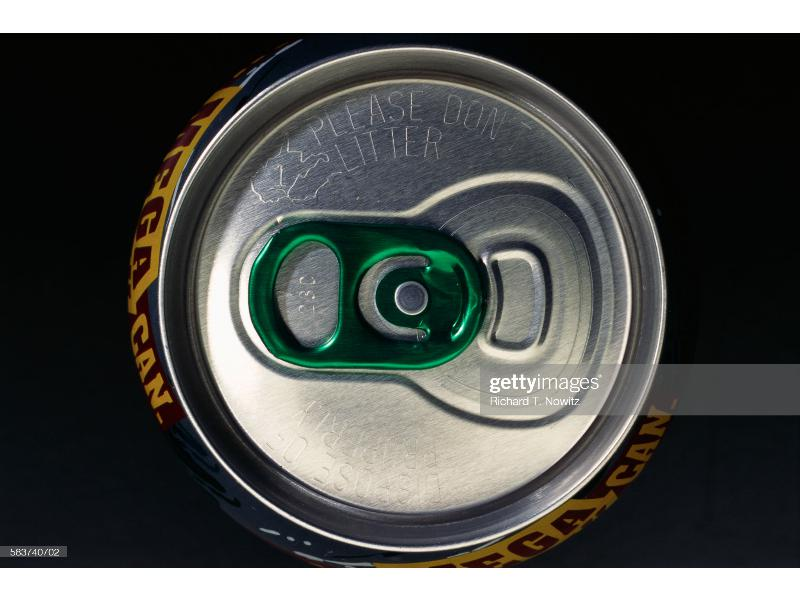can: (109, 32, 698, 563)
